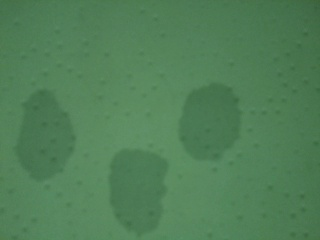Water_detected: (119, 155, 162, 212), (180, 98, 217, 142), (28, 120, 63, 164)
